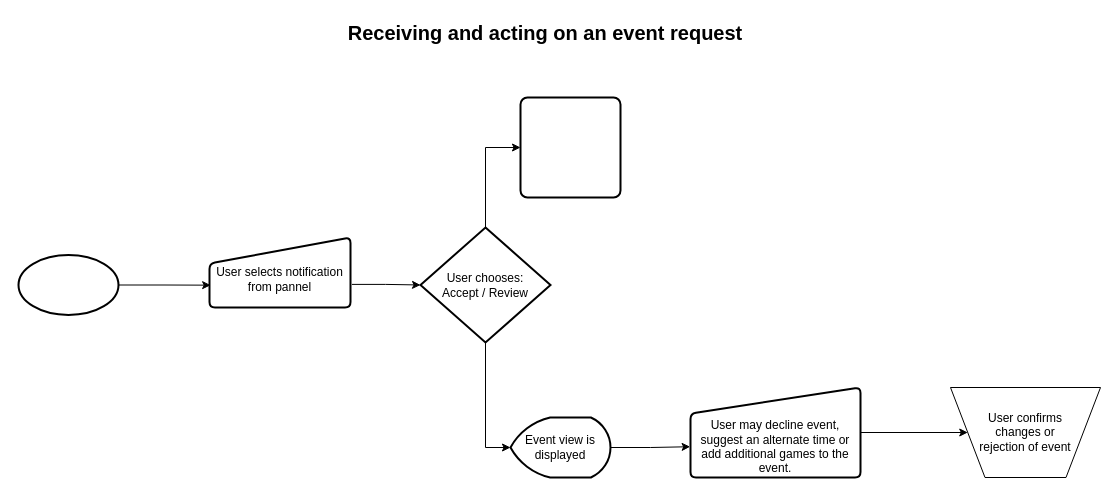
This 1118x495 diagram has some shape labels left out. The shapes that lost their labels are listed below. From the top down, each one's centre as x and y in pixels, then its label:
pixel 570 147: Event is accepted and added to user callandar and event list.
pixel 68 285: User recieves notification
